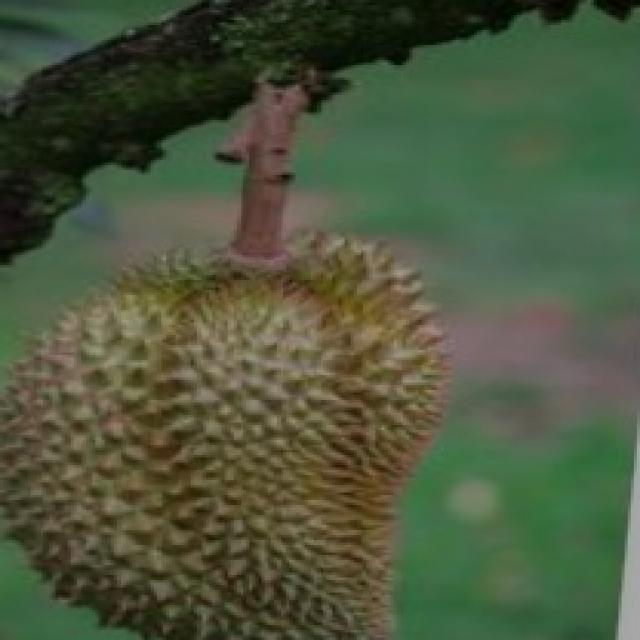fruit: (0, 215, 409, 637)
